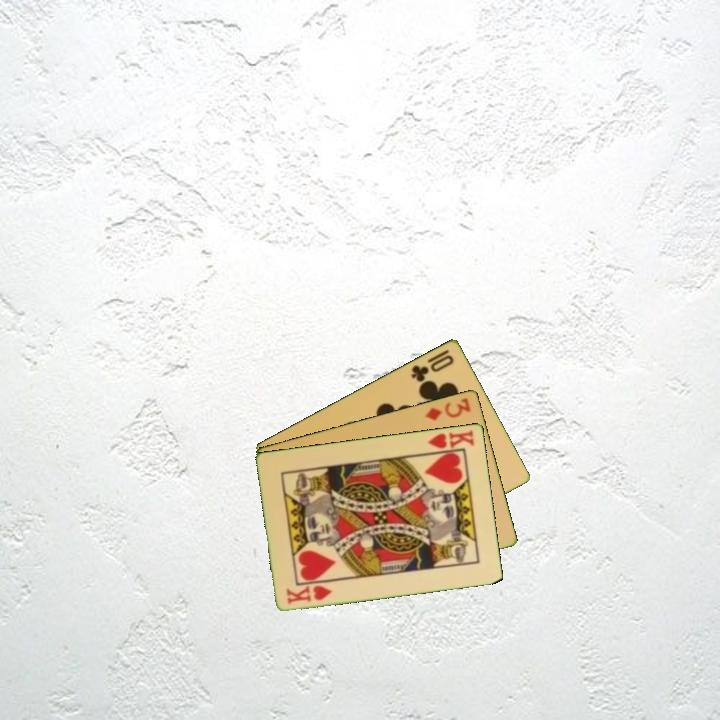10c: (408, 351, 457, 385)
3d: (422, 394, 474, 423)
Kh: (423, 426, 477, 456), (283, 581, 335, 606)
